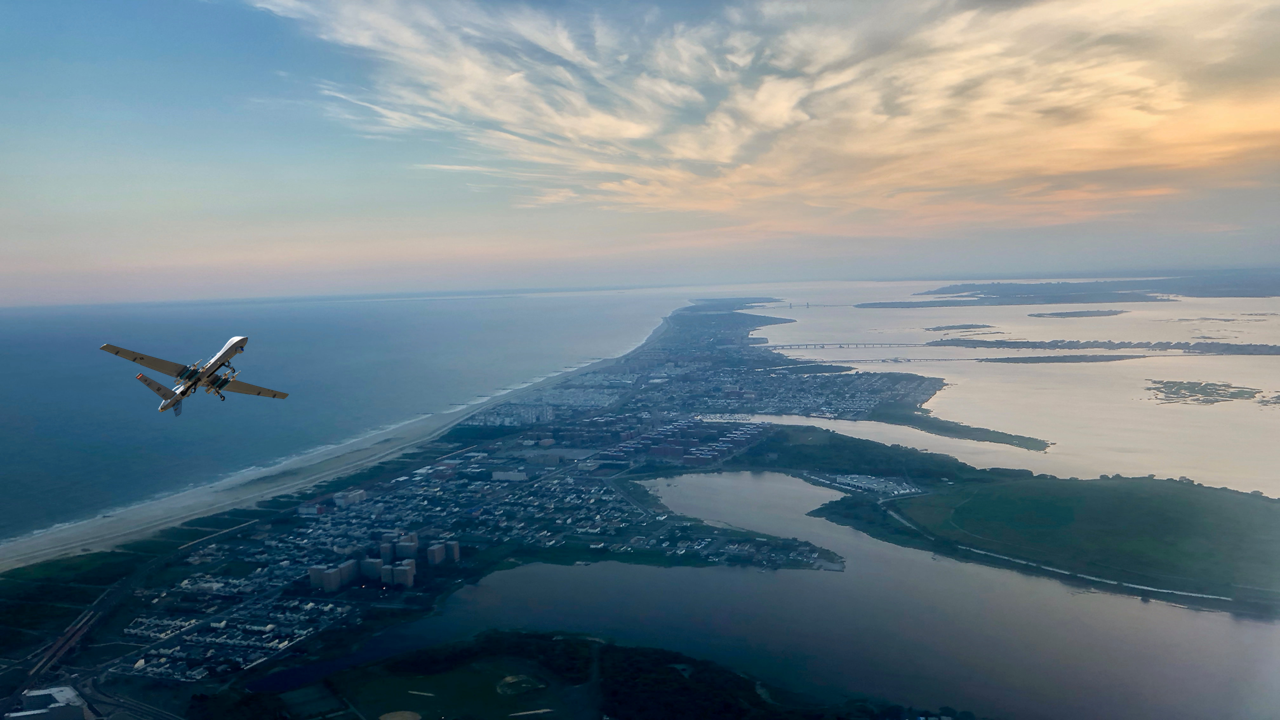military drone: (99, 335, 288, 416)
